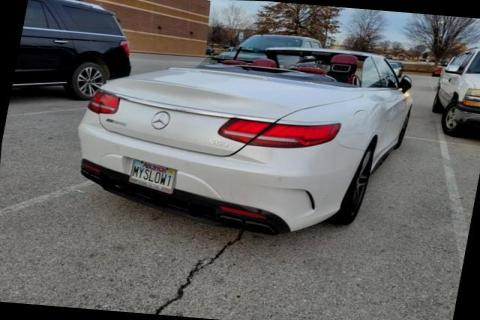LicensePlate: (124, 157, 177, 194)
